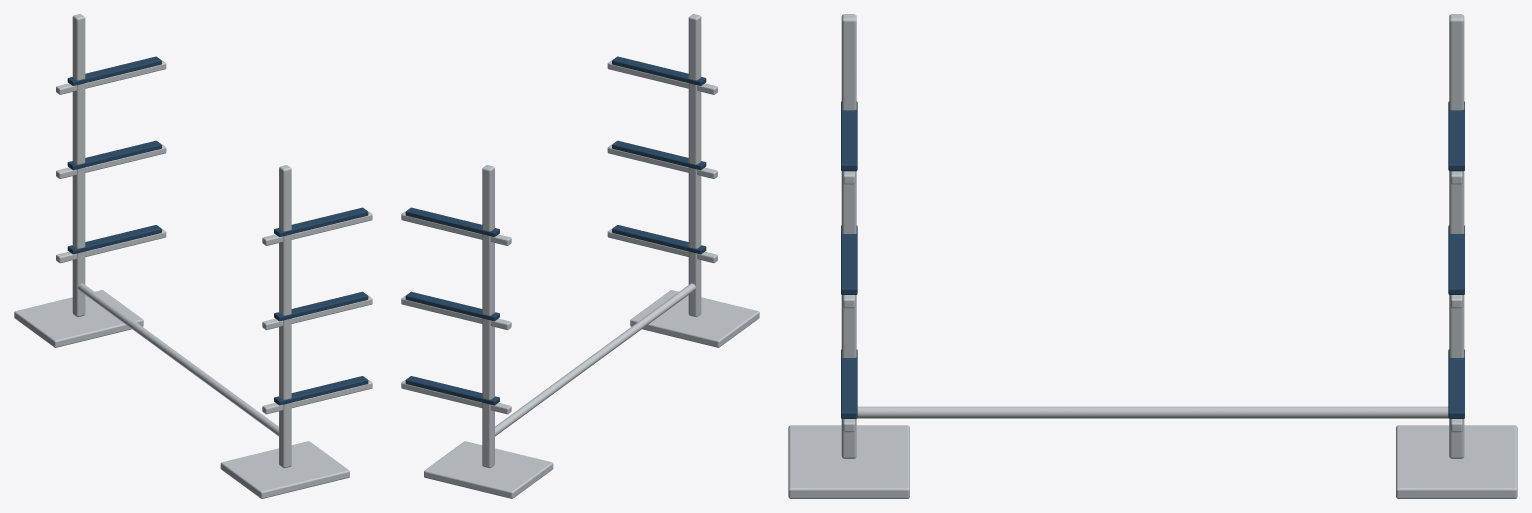
The model's file is rowing-boathouse-and-regatta-course-oar-storage-rack-536dd866__32143.glb.
3 views of the same model, side by side, from view 1: azimuth 30°, elevation 25°; view 2: azimuth 150°, elevation 25°; view 3: azimuth 270°, elevation 25° (orthographic). The views are drawn at different scales.
Visible parts, largest first — view 1: oar-storage-rack; view 2: oar-storage-rack; view 3: oar-storage-rack.
Part boxes in pixels (left/top/right/bottom): oar-storage-rack: left=14, top=14, right=372, bottom=498; oar-storage-rack: left=401, top=14, right=759, bottom=498; oar-storage-rack: left=788, top=14, right=1517, bottom=498.
Size of the model in its own units: 0.7299 by 1.64 by 2.4.
